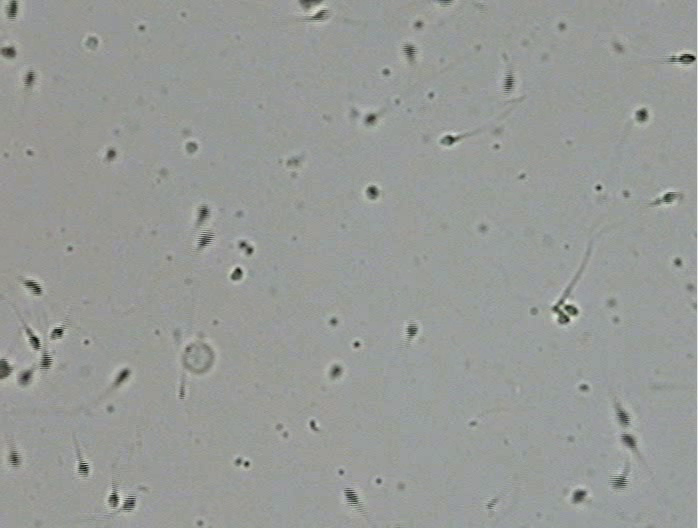Impurity: (182, 343, 214, 372), (85, 36, 99, 49)
S: (343, 487, 361, 508), (609, 473, 629, 490), (22, 280, 43, 296), (615, 407, 631, 427), (4, 1, 19, 22), (196, 203, 210, 224), (198, 229, 214, 247), (8, 449, 22, 469), (502, 73, 515, 94), (17, 370, 33, 387), (115, 368, 131, 385), (620, 432, 636, 449), (39, 352, 53, 371), (107, 490, 120, 510), (571, 489, 588, 504), (76, 460, 90, 478), (23, 69, 36, 88), (121, 495, 136, 511), (311, 9, 331, 21), (401, 44, 416, 60), (28, 334, 42, 351), (676, 53, 697, 64), (365, 185, 380, 200), (1, 357, 11, 379), (406, 320, 418, 338), (439, 134, 457, 146), (635, 108, 649, 123), (1, 46, 17, 59), (662, 192, 680, 203), (50, 327, 64, 341), (329, 364, 342, 378), (231, 267, 243, 281), (564, 304, 579, 315), (364, 113, 377, 125), (557, 313, 571, 324), (105, 149, 117, 160), (186, 142, 198, 153), (300, 1, 316, 9)
